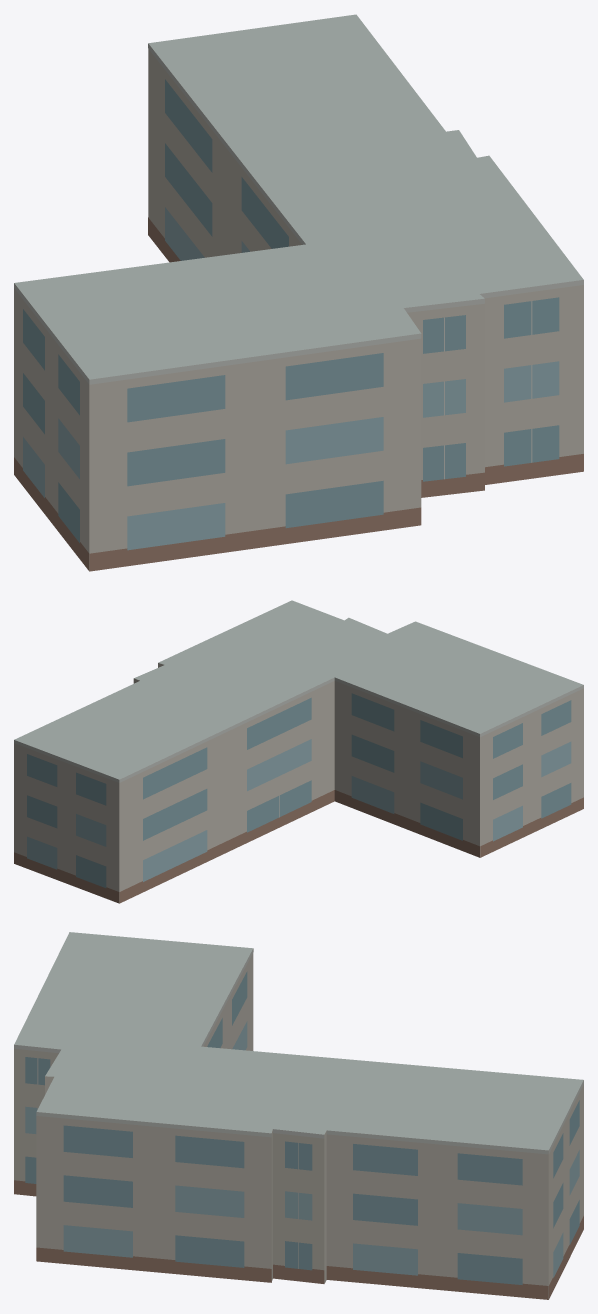
The model's file is survey-upis-32685404.glb.
3 renders of one model, top to bottom at view 1: azimuth 30°, elevation 25°; view 2: azimuth 150°, elevation 25°; view 3: azimuth 270°, elevation 25°, orthographic. The views are drawn at different scales.
Parts seen in each view (by area): view 1: survey-upis-32685404.tmp; view 2: survey-upis-32685404.tmp; view 3: survey-upis-32685404.tmp.
Part boxes in pixels (x1,y1,x2,y2): survey-upis-32685404.tmp: [14, 14, 583, 571]; survey-upis-32685404.tmp: [14, 600, 583, 903]; survey-upis-32685404.tmp: [14, 932, 583, 1299].
Bounding box in the file's own units: 28.69 × 9.15 × 31.63.
